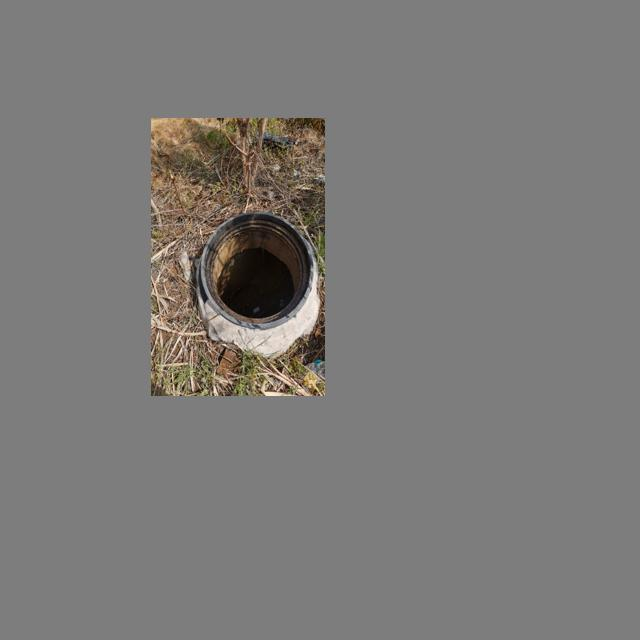lose: (200, 210, 314, 329)
